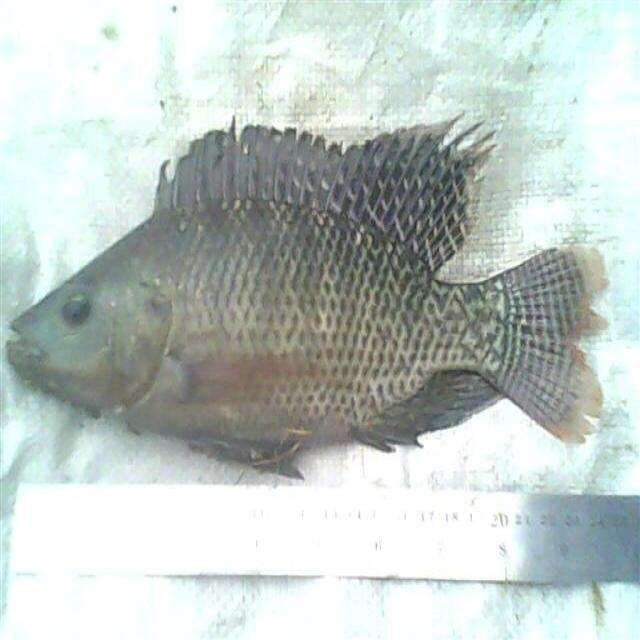ikan: (5, 109, 611, 478)
